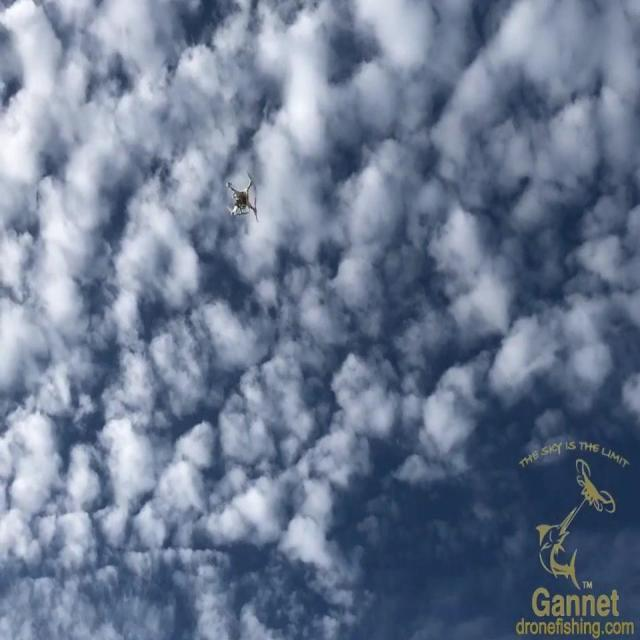UAV: (226, 171, 259, 222)
